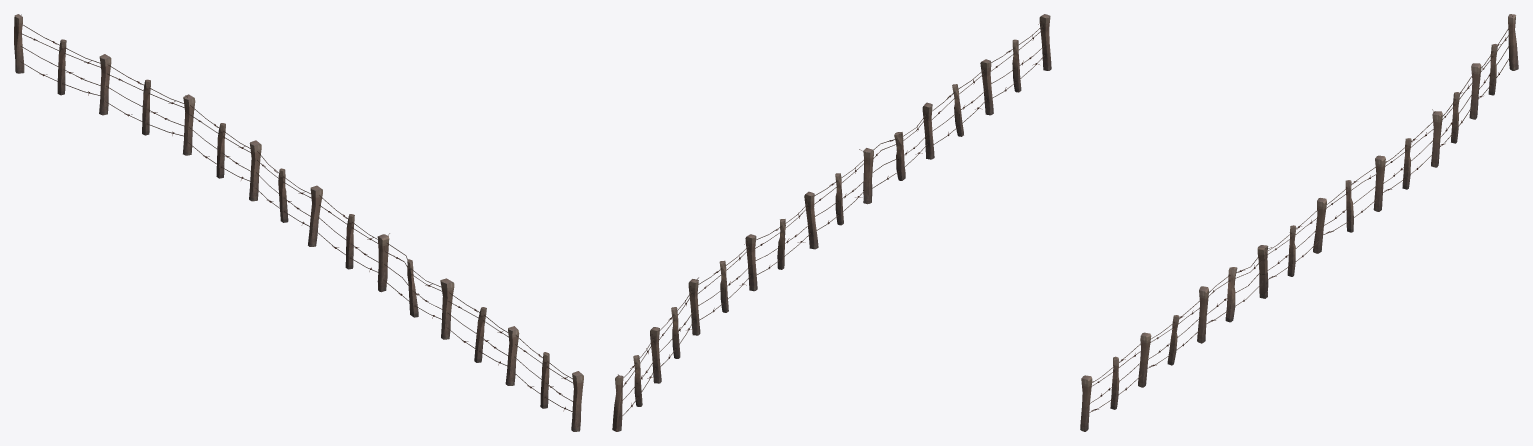
The picture shows the model from 3 angles, left to right: view 1: azimuth 30°, elevation 25°; view 2: azimuth 150°, elevation 25°; view 3: azimuth 330°, elevation 25°; orthographic projection. The views are drawn at different scales.
Parts seen in each view (by area): view 1: body0_model0_lod0_mesh0; view 2: body0_model0_lod0_mesh0; view 3: body0_model0_lod0_mesh0.
Part boxes in pixels (bbox=[...]): body0_model0_lod0_mesh0: bbox=[14, 14, 583, 431]; body0_model0_lod0_mesh0: bbox=[612, 14, 1051, 431]; body0_model0_lod0_mesh0: bbox=[1080, 14, 1518, 431].
Size of the model in its own units: 73.42 by 67.6 by 1037.
1 material, 1 textured.
